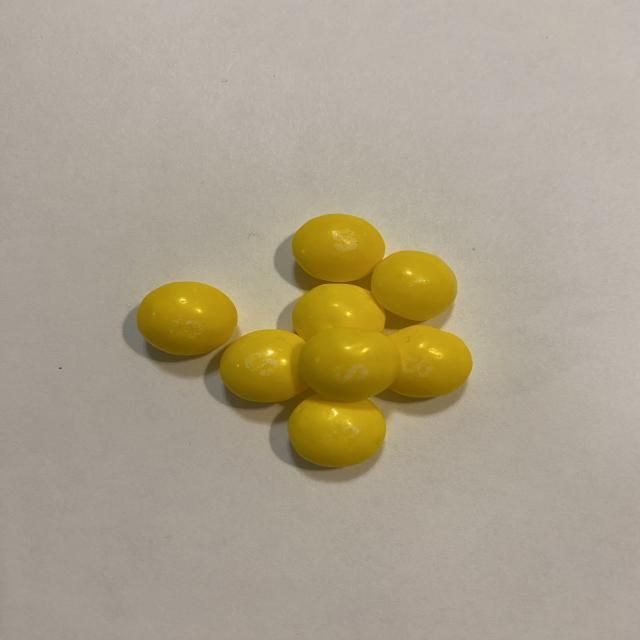smartie: (297, 327, 401, 402), (136, 282, 237, 355), (287, 394, 385, 468), (291, 213, 385, 282), (219, 330, 308, 402), (387, 325, 473, 398), (371, 250, 457, 321), (292, 283, 386, 341)
